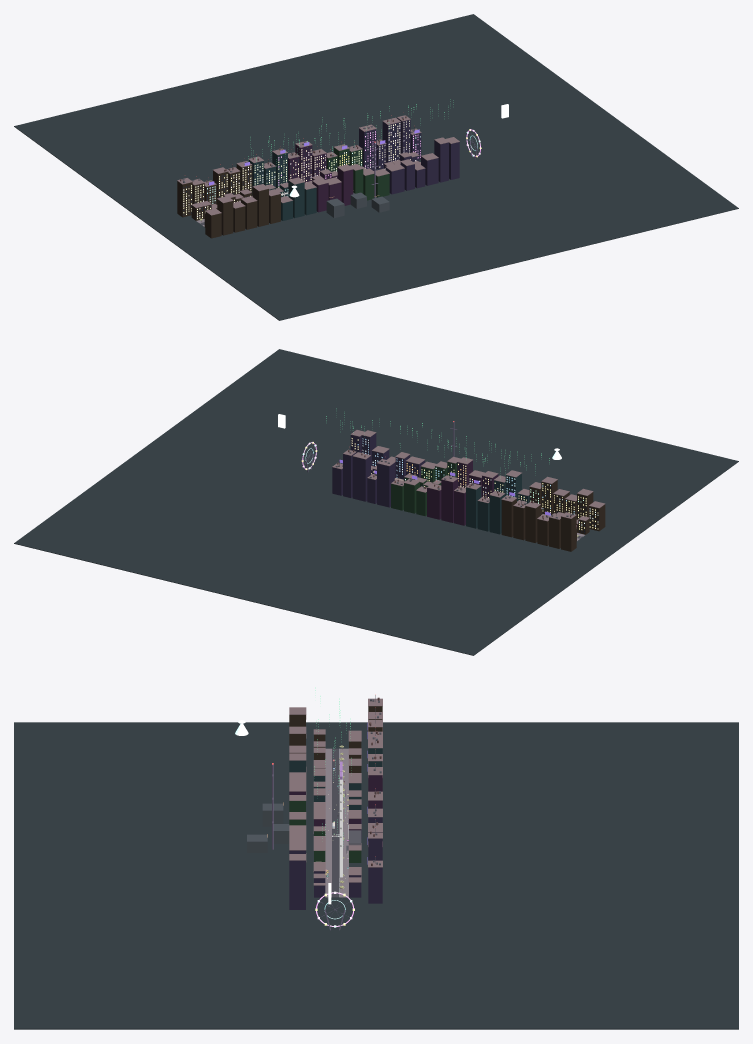
File: code-world.glb
The picture shows the model from 3 angles, top to bottom: view 1: azimuth 30°, elevation 25°; view 2: azimuth 150°, elevation 25°; view 3: azimuth 270°, elevation 25°; orthographic projection. The views are drawn at different scales.
Visible parts, largest first — view 1: Ground, MERGED_SkylineModern_SkyModern_Mat, FarN7, FarN5, FarN0, FarNx0, FarSx4, FarS9, FarSx1, FarS1, FarSx7; view 2: Ground, FarN7, FarN5, FarN0, FarNx0, FarNx8, FarNx6, FarNx3, FarNx5, FarN1; view 3: Ground, Env_Sidewalks, MERGED_SkylineModern_SkyModern_Mat, Env_Road, FarS10, FarN9.
Part boxes in pixels (box(x1,y1,x2,y2)): Ground: box(14, 14, 738, 320); MERGED_SkylineModern_SkyModern_Mat: box(326, 192, 389, 218); FarN7: box(382, 117, 400, 162); FarN5: box(359, 124, 376, 170); FarN0: box(295, 141, 312, 182); FarNx0: box(177, 178, 192, 217); FarSx4: box(252, 184, 268, 226); FarS9: box(434, 137, 448, 182); FarSx1: box(217, 196, 233, 235); FarS1: box(337, 164, 353, 205); FarSx7: box(288, 177, 304, 218); Ground: box(14, 349, 738, 655); FarN7: box(352, 452, 370, 501); FarN5: box(377, 459, 394, 507); FarN0: box(441, 475, 458, 522); FarNx0: box(560, 512, 576, 551); FarNx8: box(466, 483, 481, 528); FarNx6: box(489, 491, 505, 534); FarNx3: box(525, 501, 540, 542); FarNx5: box(501, 495, 516, 537); FarN1: box(427, 483, 441, 519); Ground: box(14, 722, 738, 1029); Env_Sidewalks: box(325, 748, 348, 897); MERGED_SkylineModern_SkyModern_Mat: box(247, 803, 289, 852); Env_Road: box(332, 748, 339, 897); FarS10: box(289, 854, 306, 909); FarN9: box(368, 860, 382, 903).
Size of what is drawn, in the model's own units: 700 by 122 by 700.
